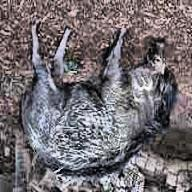boar: (23, 34, 192, 191)
